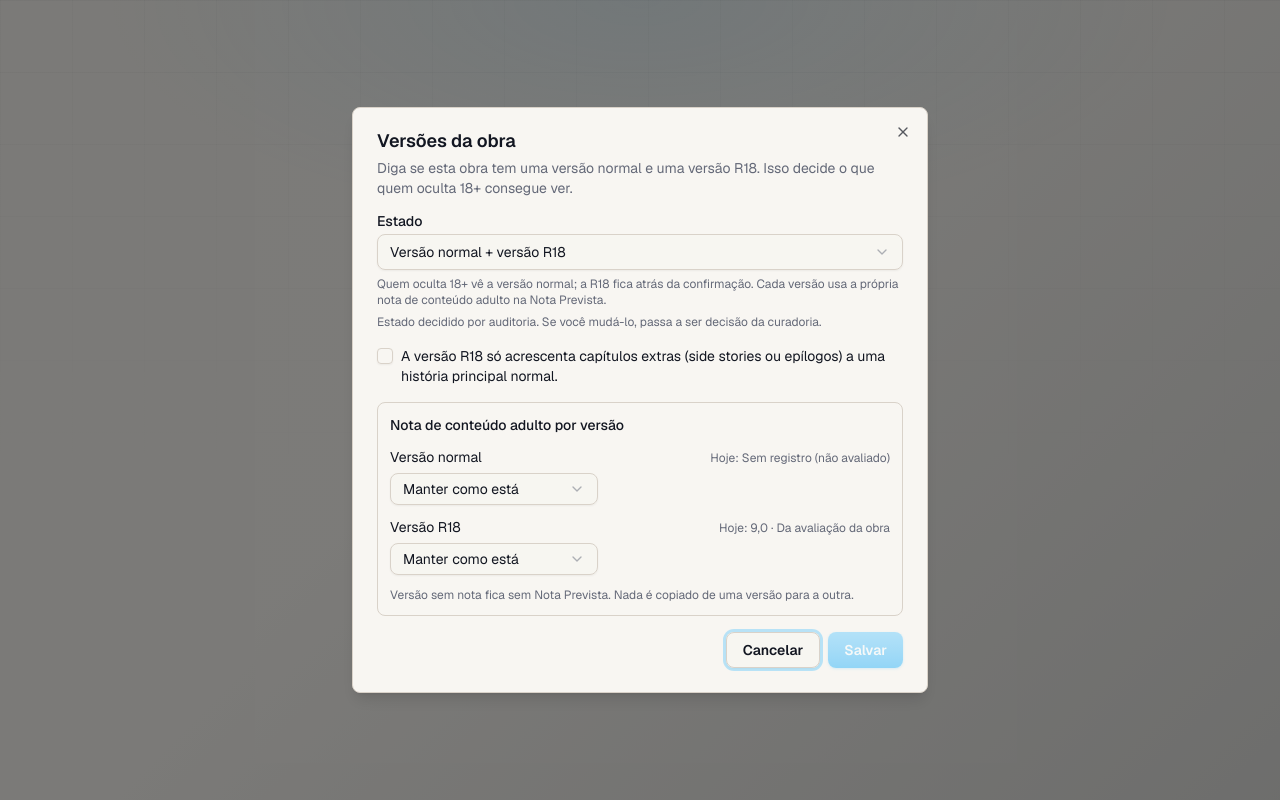
nota por versão — o mesmo controle da nota de critério › 'Informar nota' abre a linha de Conteúdo Adulto e o painel da faixa; 'Manter como está' não
The width and height of the screenshot is (1280, 800).
expect the text "Estado" is shown: met, box [377,212,422,230]
Press Space in the dropdown named "Nota da Versão R18", box [390,543,598,575]
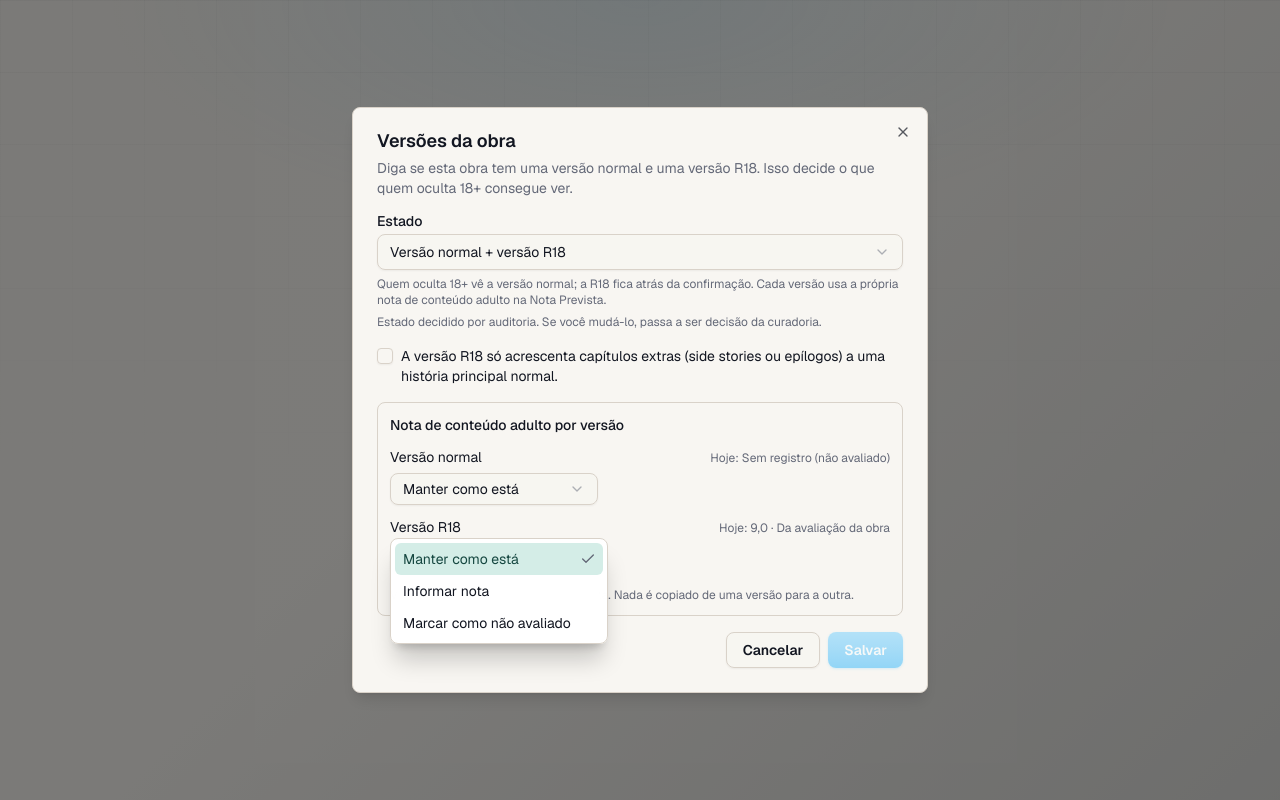
Click the option "Informar nota" at (446, 591), box [403,582,489,600]
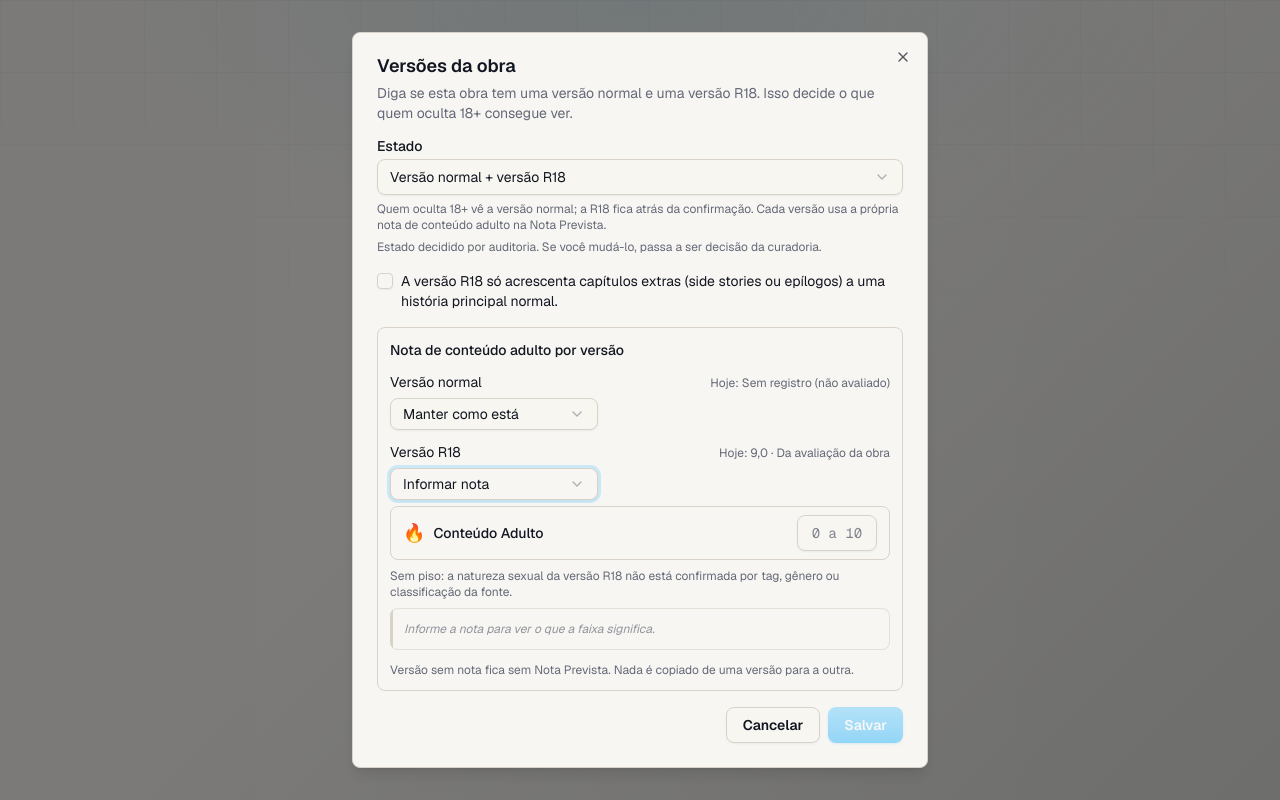
expect the text "Conteúdo Adulto" is shown: met, box [434,523,544,543]
expect the text "Informe a nota para ver o que a faixa significa." is shown: met, box [404,621,655,637]
